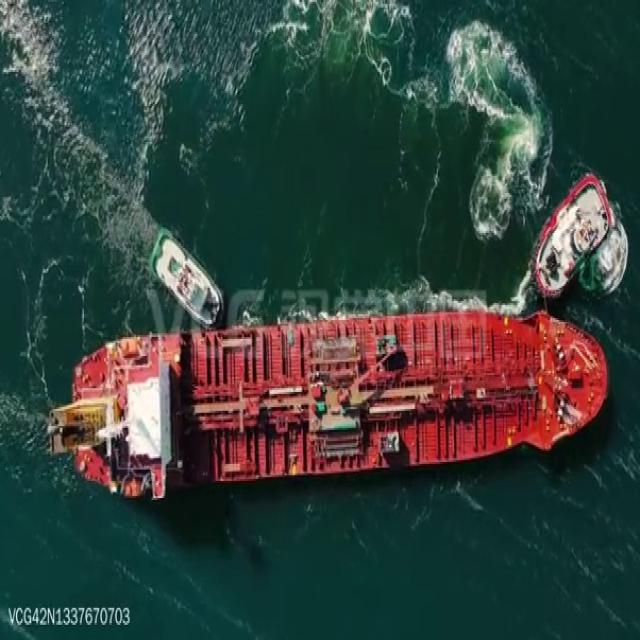cargoship: (49, 320, 608, 483)
houseboat: (526, 169, 611, 295), (149, 223, 222, 329)
